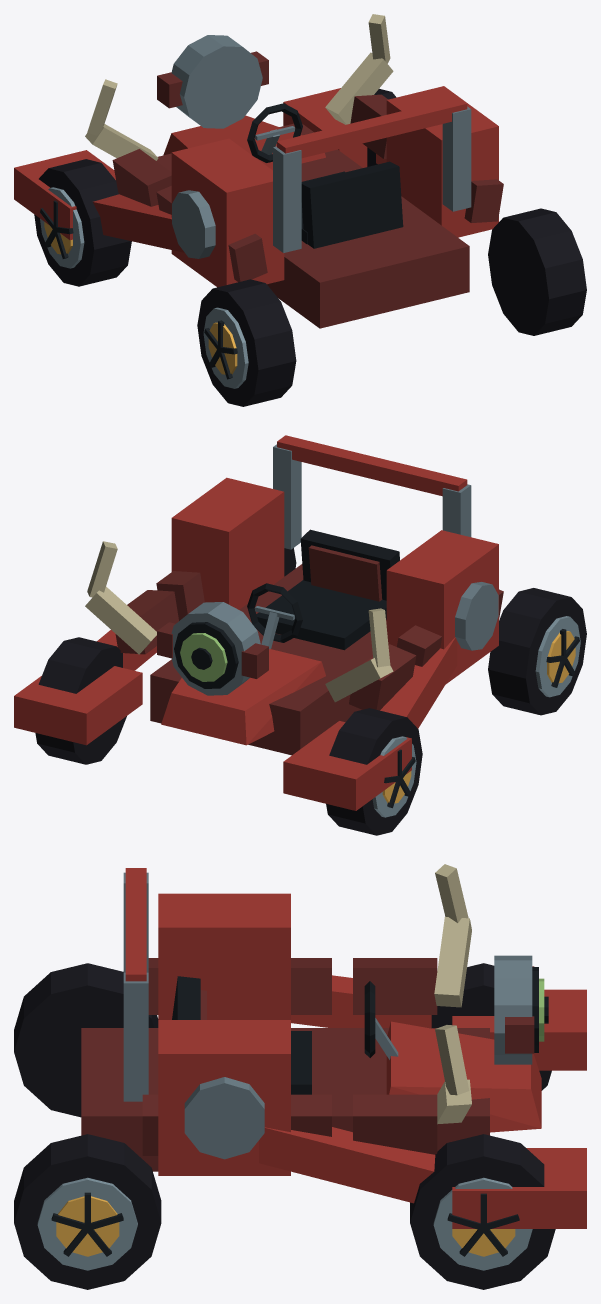
Rendered from kart.glb.
3 renders of one model, top to bottom at view 1: azimuth 30°, elevation 25°; view 2: azimuth 150°, elevation 25°; view 3: azimuth 270°, elevation 25°, orthographic. The views are drawn at different scales.
Parts seen in each view (by area): view 1: identity-mech-mech-articulated-limbs-and-open-harness, wheel-rear-left, wheel-rear-right, identity-mech-driver-cockpit, wheel-front-left, identity-mech-motif-optic, identity-mech-motif-armor, identity-mech-motif-horns; view 2: identity-mech-mech-articulated-limbs-and-open-harness, identity-mech-driver-cockpit, wheel-rear-left, identity-mech-motif-optic, wheel-front-left, identity-mech-motif-armor, identity-mech-motif-horns, wheel-front-right; view 3: identity-mech-mech-articulated-limbs-and-open-harness, wheel-rear-right, identity-mech-motif-armor, wheel-front-right, wheel-rear-left, identity-mech-motif-horns, identity-mech-motif-optic, identity-mech-driver-cockpit, wheel-front-left.
Part boxes in pixels (bbox=[...]): identity-mech-mech-articulated-limbs-and-open-harness: bbox=[14, 86, 498, 328]; wheel-rear-left: bbox=[197, 279, 296, 406]; wheel-rear-right: bbox=[488, 208, 586, 335]; identity-mech-driver-cockpit: bbox=[247, 103, 403, 248]; wheel-front-left: bbox=[34, 159, 131, 286]; identity-mech-motif-optic: bbox=[157, 35, 268, 128]; identity-mech-motif-armor: bbox=[112, 94, 503, 282]; identity-mech-motif-horns: bbox=[85, 14, 393, 160]; identity-mech-mech-articulated-limbs-and-open-harness: bbox=[14, 435, 498, 810]; identity-mech-driver-cockpit: bbox=[247, 529, 399, 650]; wheel-rear-left: bbox=[488, 588, 586, 715]; identity-mech-motif-optic: bbox=[157, 602, 268, 695]; wheel-front-left: bbox=[326, 708, 422, 835]; identity-mech-motif-armor: bbox=[115, 571, 503, 710]; identity-mech-motif-horns: bbox=[85, 541, 393, 702]; wheel-front-right: bbox=[35, 637, 126, 764]; identity-mech-mech-articulated-limbs-and-open-harness: bbox=[81, 868, 586, 1228]; wheel-rear-right: bbox=[14, 1134, 161, 1289]; identity-mech-motif-armor: bbox=[142, 958, 437, 1155]; wheel-front-right: bbox=[410, 1134, 555, 1289]; wheel-rear-left: bbox=[14, 963, 158, 1117]; identity-mech-motif-horns: bbox=[434, 864, 471, 1124]; identity-mech-motif-optic: bbox=[494, 955, 548, 1064]; identity-mech-driver-cockpit: bbox=[172, 976, 398, 1094]; wheel-front-left: bbox=[431, 963, 551, 1090].
Bounding box in the file's own units: 2.29 × 1.42 × 2.72.
